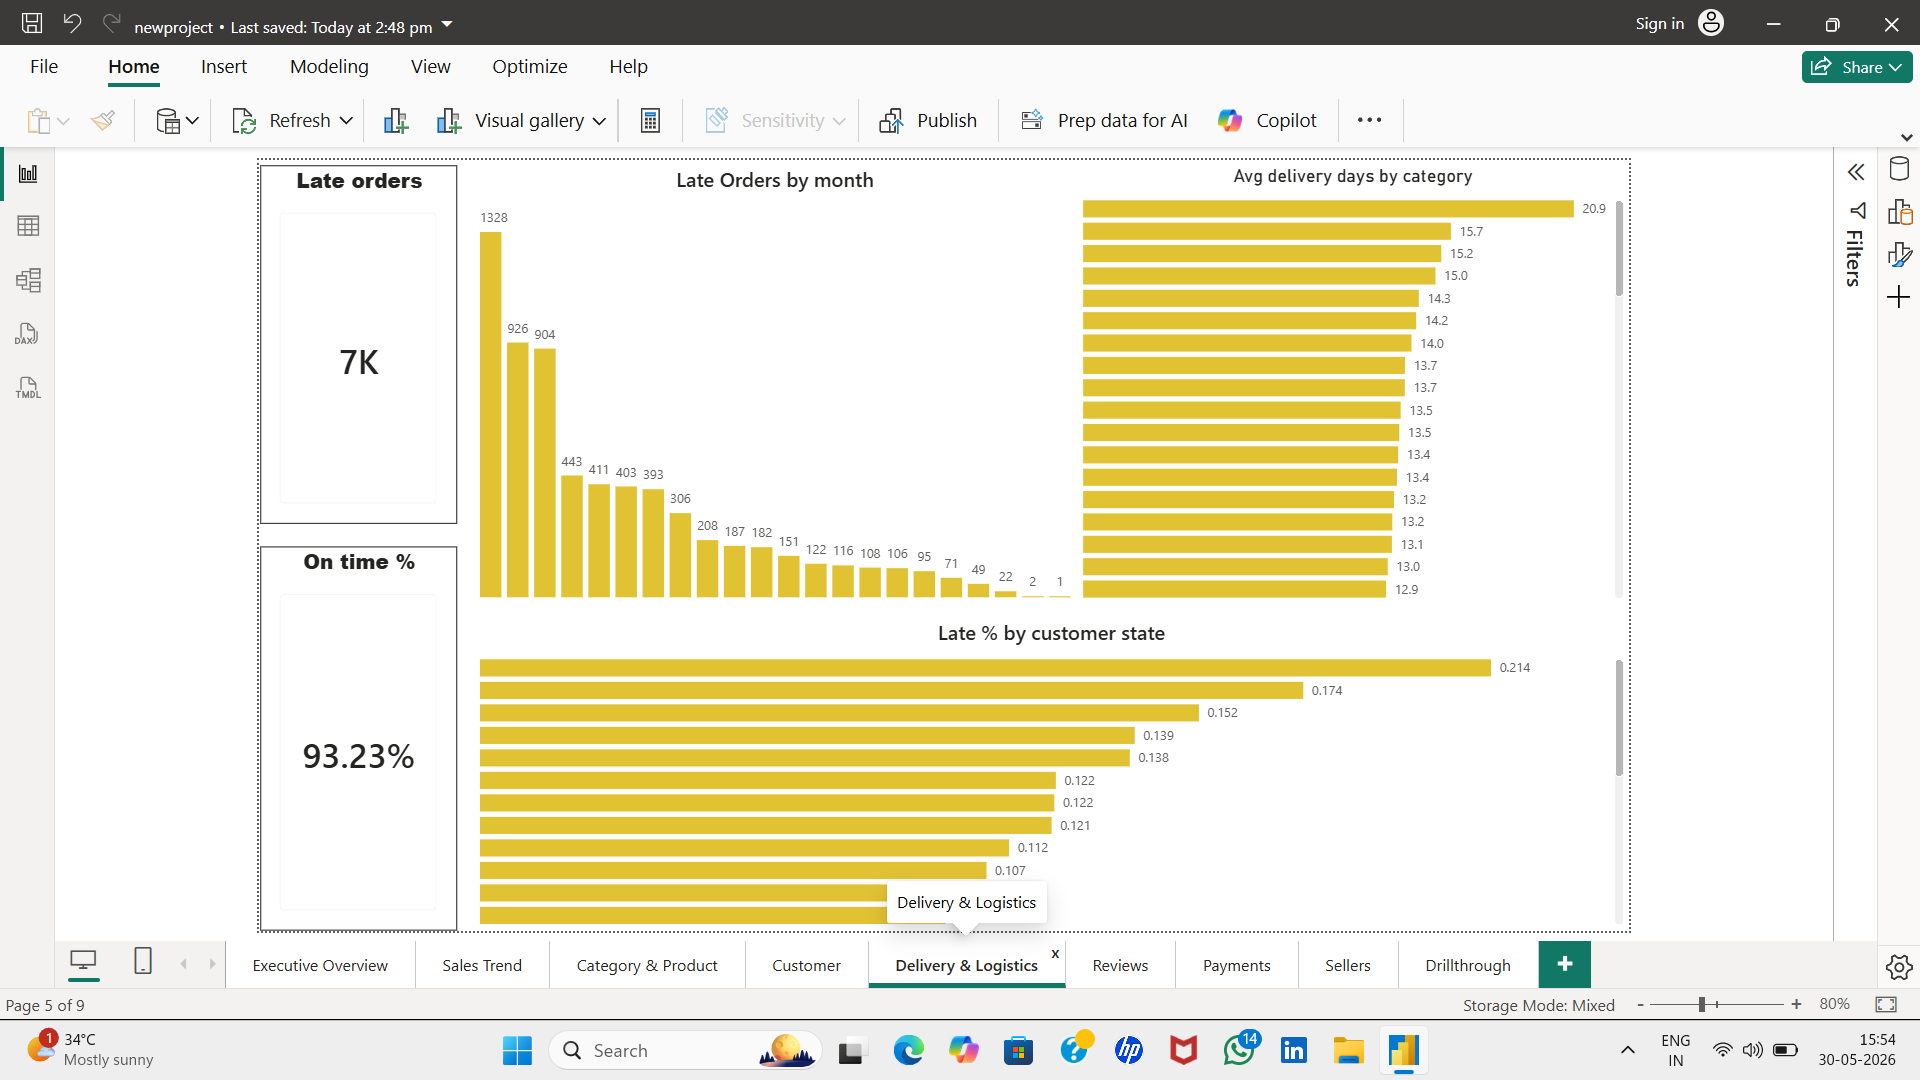

The dashboard page shown, as its layout file describes it:
{"tool":"powerbi","page":{"name":"Delivery & Logistics","canvas":[1280,720],"ordinal":4},"visuals":[{"type":"cardVisual","title":"Late orders","fields":{"Data":["public bi_fact_sales.Late Orders"]},"box":[1.6,4.9,183.6,334.7],"z":0},{"type":"cardVisual","title":"On time %","fields":{"Data":["public bi_fact_sales.On-time %"]},"box":[1.6,360.7,183.6,359.1],"z":1000},{"type":"clusteredColumnChart","title":"Late Orders by month","fields":{"Category":["DimDate.Year-Month"],"Y":["public bi_fact_sales.Late Orders"]},"box":[201.5,4.9,562.2,409.5],"z":2000},{"type":"barChart","title":"Avg delivery days by category","fields":{"Y":["public bi_fact_sales.Avg Delivery Days"],"Category":["public bi_fact_sales.category"]},"box":[765.3,4.9,515.1,409.5],"z":3000},{"type":"barChart","title":"Late % by customer state","fields":{"Category":["public bi_fact_sales.customer_state"],"Y":["public bi_fact_sales.Late %"]},"box":[201.5,429,1078.9,290.8],"z":4000}]}

Visuals, with their boxes on the page's 1280x720 design canvas (x1, y1, x2, y2). These are canvas units, not pixel positions in the 1920x1080 screenshot, which may show the page scaled, cropped or inside an application window:
"Late orders" cardVisual: Rect(2, 5, 185, 340)
"On time %" cardVisual: Rect(2, 361, 185, 720)
"Late Orders by month" clusteredColumnChart: Rect(202, 5, 764, 414)
"Avg delivery days by category" barChart: Rect(765, 5, 1280, 414)
"Late % by customer state" barChart: Rect(202, 429, 1280, 720)
